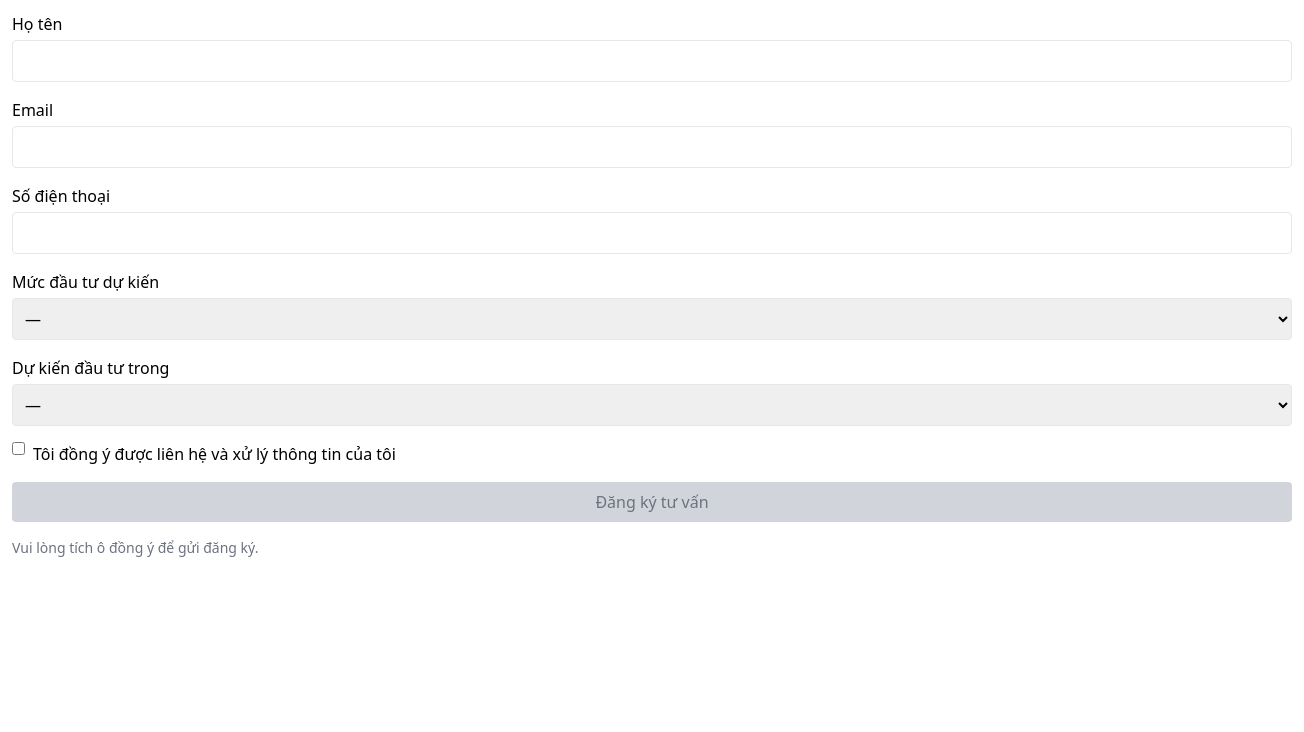
LeadForm › disables submit until consent is checked
The image size is (1304, 732).
Expected: the button "Đăng ký tư vấn" is disabled, [12,482,1292,522]
Step 1. Click the checkbox labelled "Tôi đồng ý được liên hệ và xử lý thông tin của tôi" → (18, 448), box [12,442,25,455]
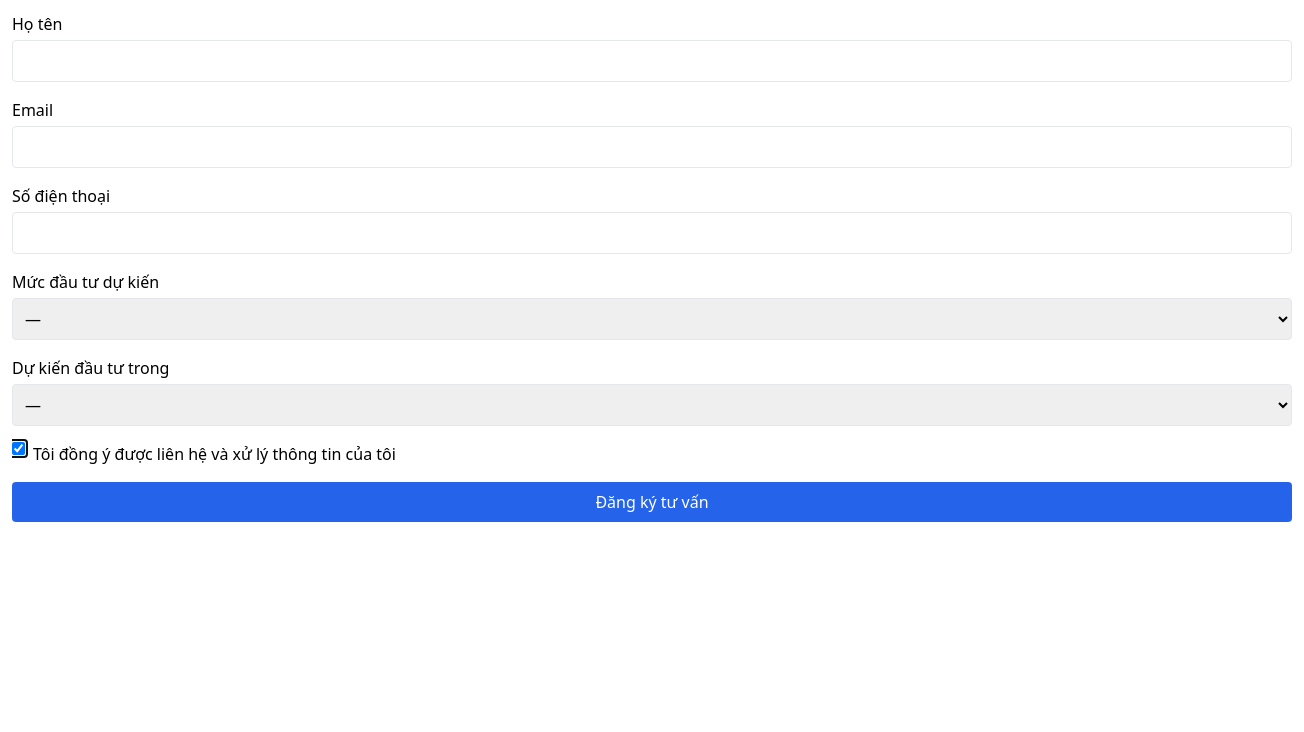
Expected: the button "Đăng ký tư vấn" is enabled, [12,482,1292,522]
